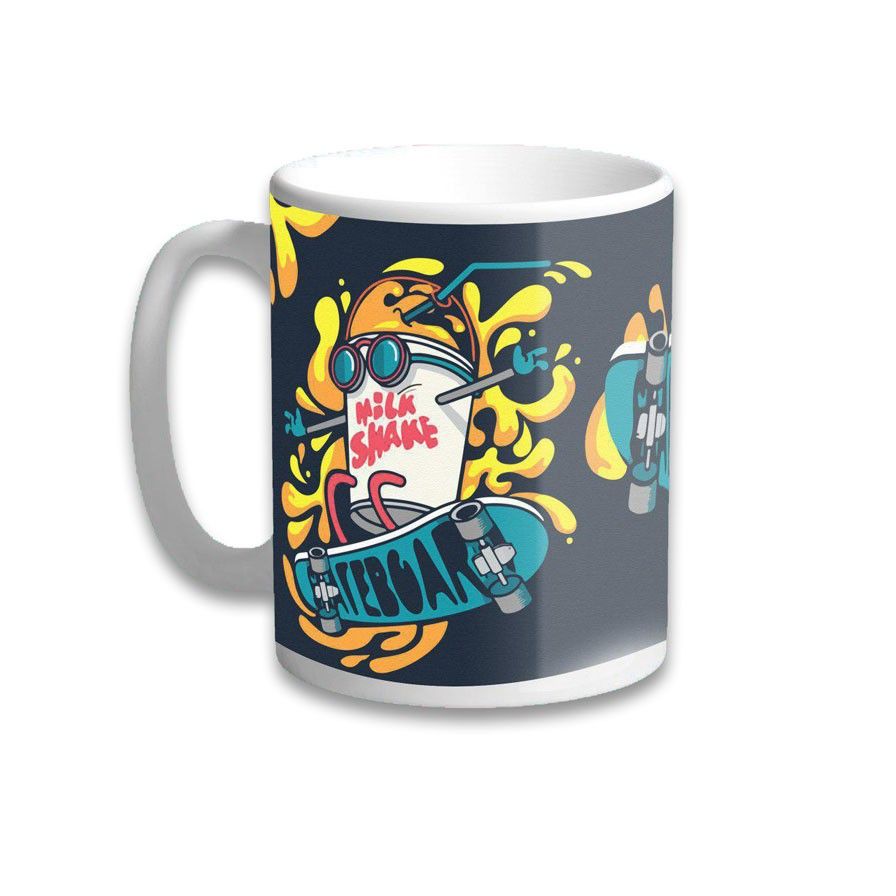gelas: (103, 120, 778, 776)
